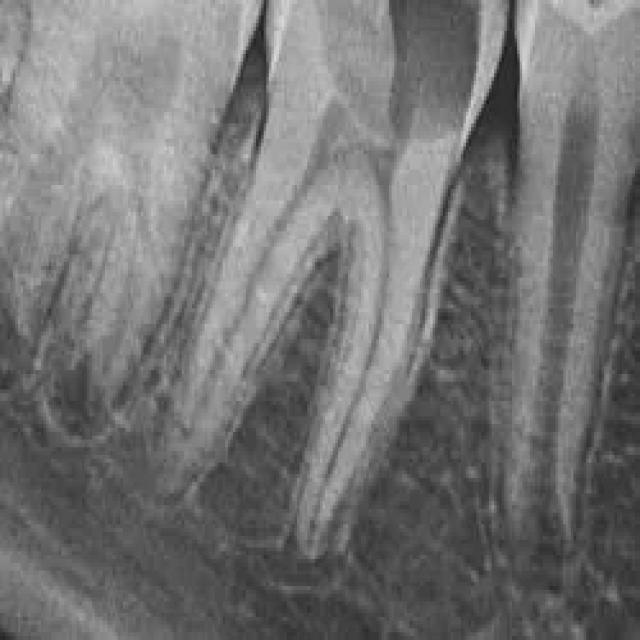Caries: (262, 2, 513, 534)
